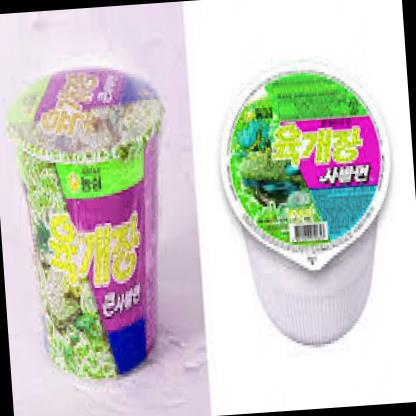Ramen: (212, 57, 410, 364), (3, 60, 182, 384)
